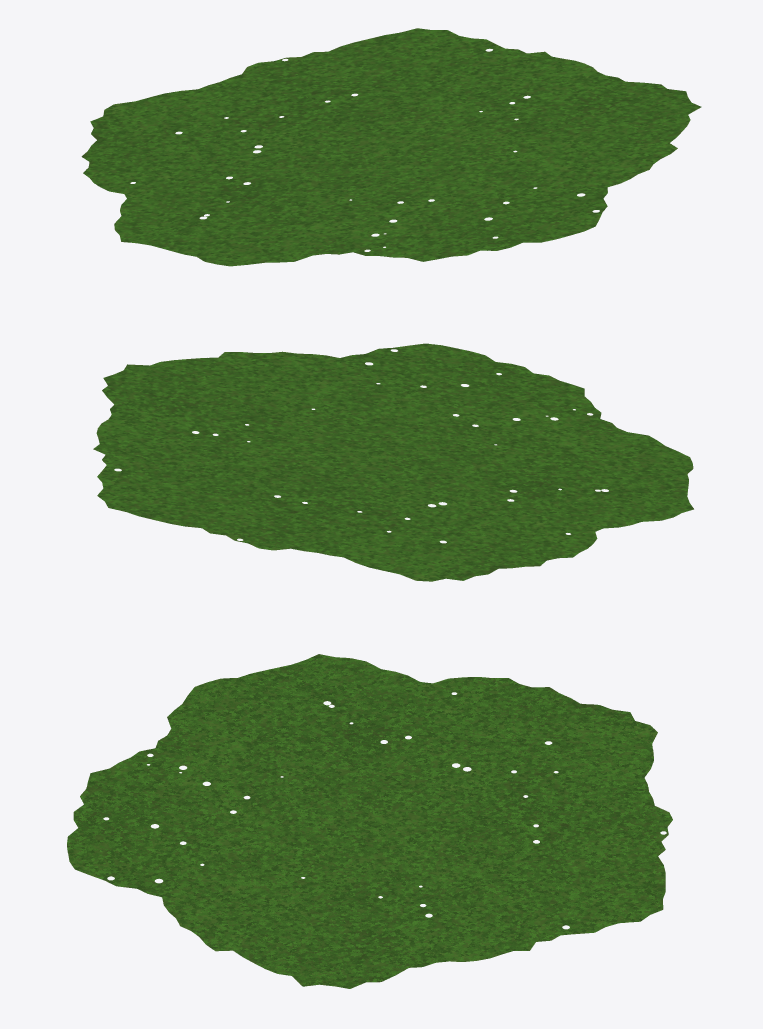
Rendered from Ground_Moss_Patch_01_LOD2.fbx.
3 views of the same model, one above another, from view 1: azimuth 30°, elevation 25°; view 2: azimuth 150°, elevation 25°; view 3: azimuth 270°, elevation 25° (orthographic). The views are drawn at different scales.
Visible parts, largest first — view 1: Ground_Moss_Patch_01_LOD2_Mesh; view 2: Ground_Moss_Patch_01_LOD2_Mesh; view 3: Ground_Moss_Patch_01_LOD2_Mesh.
Part boxes in pixels (bbox=[...]): Ground_Moss_Patch_01_LOD2_Mesh: bbox=[81, 28, 701, 266]; Ground_Moss_Patch_01_LOD2_Mesh: bbox=[93, 343, 693, 581]; Ground_Moss_Patch_01_LOD2_Mesh: bbox=[67, 654, 672, 988].
Bounding box in the file's own units: 200 × 0.4385 × 160.
1 material, 1 textured.
